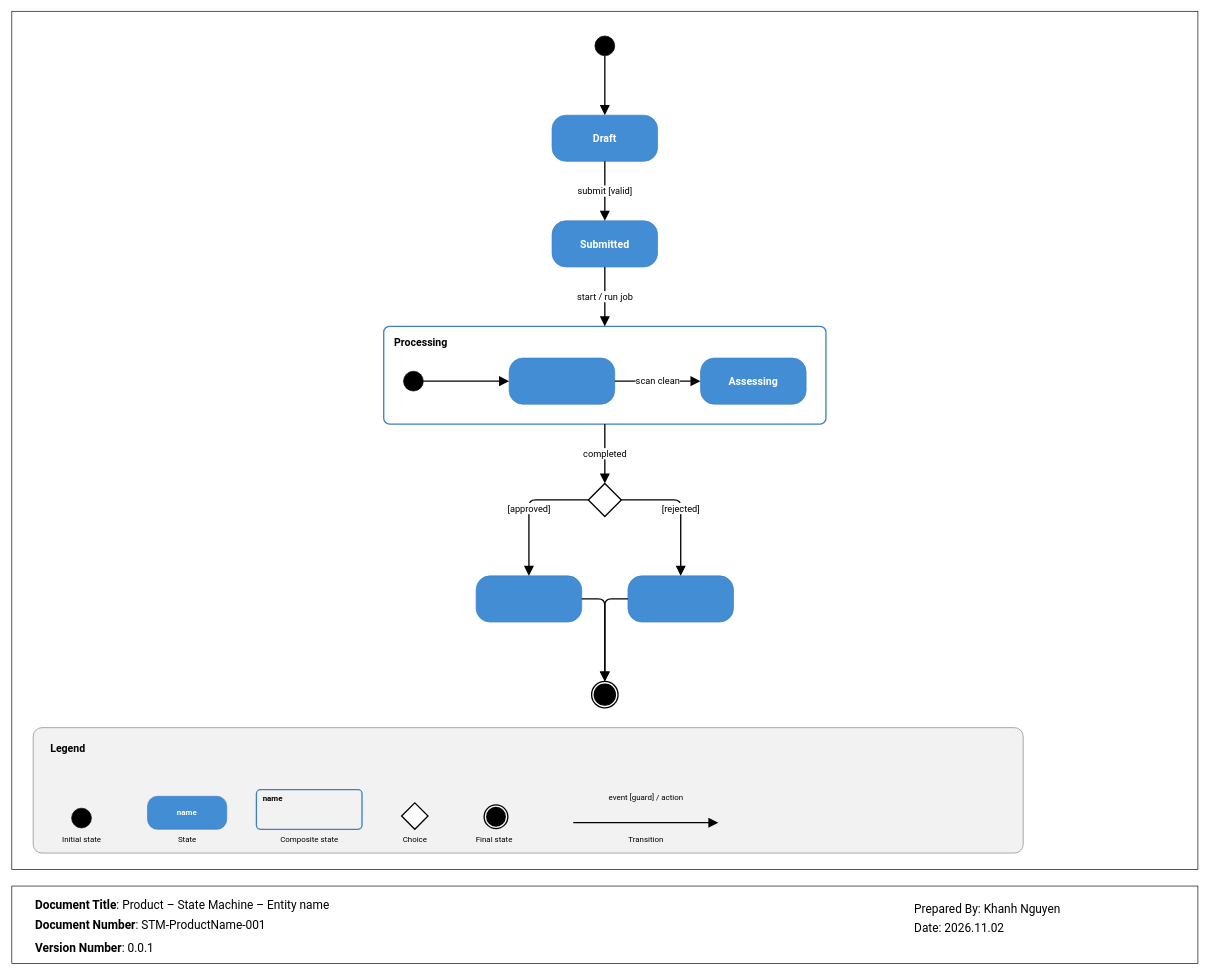
This 1210x975 diagram has some shape labels left out. Here are the shapes that lost their labels. From the top down, the box of each, then its label:
(508, 357, 615, 404): Scanning
(475, 575, 582, 622): Approved
(627, 575, 734, 622): Rejected
